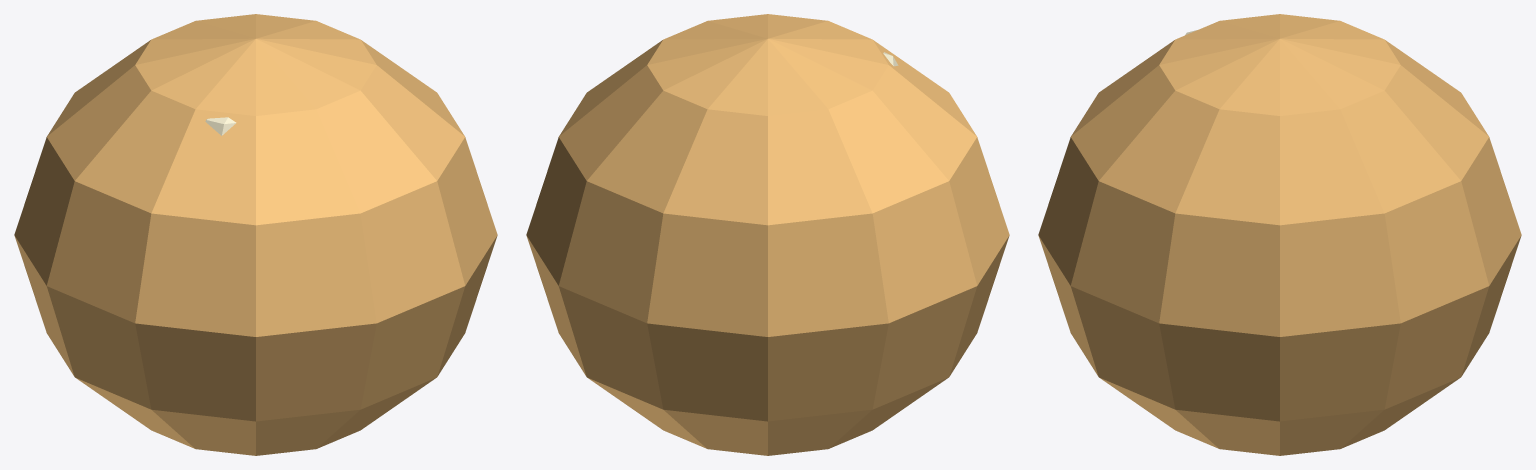
Rendered from burbuja_lava.glb.
The picture shows the model from 3 angles, left to right: view 1: azimuth 30°, elevation 25°; view 2: azimuth 150°, elevation 25°; view 3: azimuth 270°, elevation 25°; orthographic projection.
Parts seen in each view (by area): view 1: burbuja_lava; view 2: burbuja_lava; view 3: burbuja_lava.
Boxes of the visible parts, x1,y1,x2,y2 form: burbuja_lava: [14, 14, 497, 455]; burbuja_lava: [526, 14, 1009, 455]; burbuja_lava: [1038, 14, 1521, 455].
Bounding box in the file's own units: 0.96 × 0.86 × 0.96.
